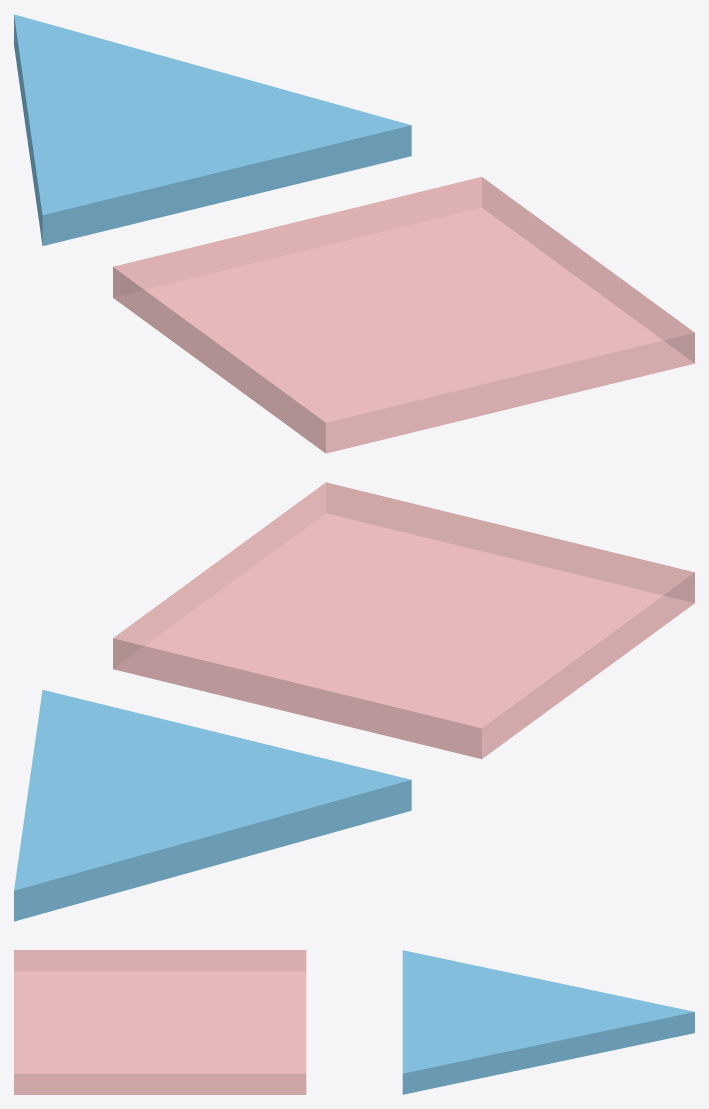
Rendered from barca_step3.glb.
3 renders of one model, top to bottom at view 1: azimuth 30°, elevation 25°; view 2: azimuth 150°, elevation 25°; view 3: azimuth 270°, elevation 25°, orthographic. The views are drawn at different scales.
Parts seen in each view (by area): view 1: quadrato_grande, triangolo_isoscele_grande; view 2: quadrato_grande, triangolo_isoscele_grande; view 3: quadrato_grande, triangolo_isoscele_grande.
Boxes of the visible parts, x1,y1,x2,y2 form: quadrato_grande: (113, 177, 694, 453); triangolo_isoscele_grande: (14, 14, 411, 245); quadrato_grande: (113, 482, 694, 758); triangolo_isoscele_grande: (14, 690, 411, 921); quadrato_grande: (14, 950, 306, 1094); triangolo_isoscele_grande: (402, 950, 694, 1094).
Bounding box in the file's own units: 1 × 0.08 × 2.33.
